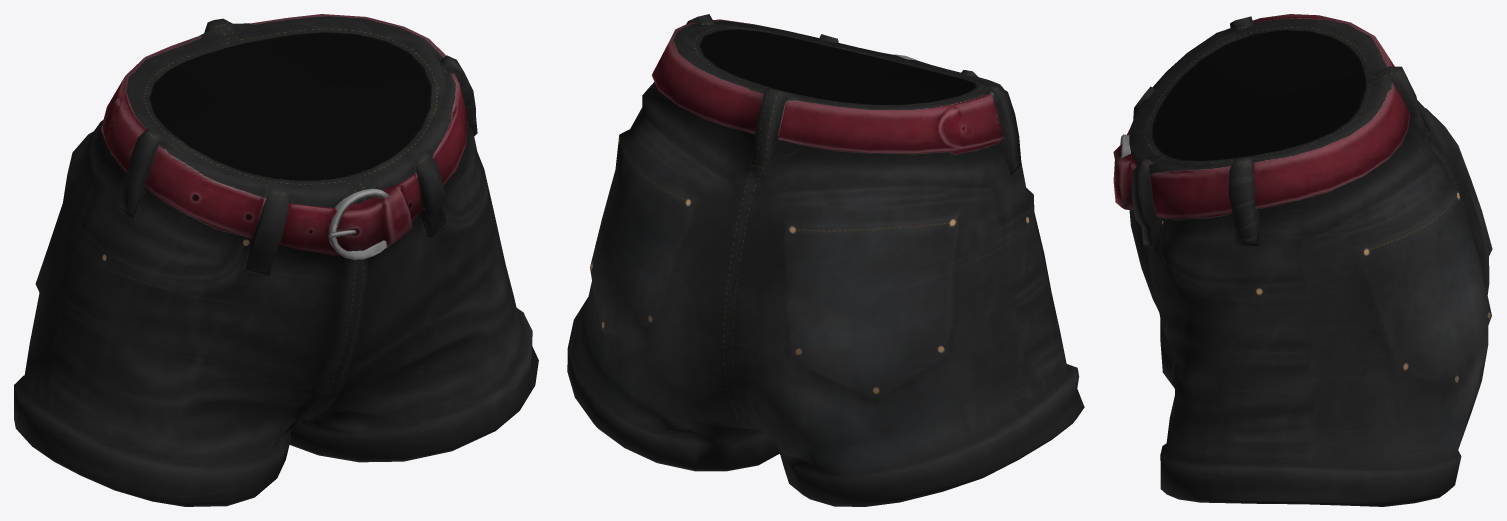
Rendered from shorts_denim.glb.
3 renders of one model, left to right at view 1: azimuth 30°, elevation 25°; view 2: azimuth 150°, elevation 25°; view 3: azimuth 270°, elevation 25°, orthographic. The views are drawn at different scales.
Visible parts, largest first — view 1: Shorts_MI_SkieShorts_0; view 2: Shorts_MI_SkieShorts_0; view 3: Shorts_MI_SkieShorts_0.
Part boxes in pixels (<box>): Shorts_MI_SkieShorts_0: <box>14,14,538,506</box>; Shorts_MI_SkieShorts_0: <box>567,14,1084,506</box>; Shorts_MI_SkieShorts_0: <box>1113,14,1492,506</box>.
Bounding box in the file's own units: 0.4582 × 0.3546 × 0.3236.
Materials: 1 (1 with a texture image).
